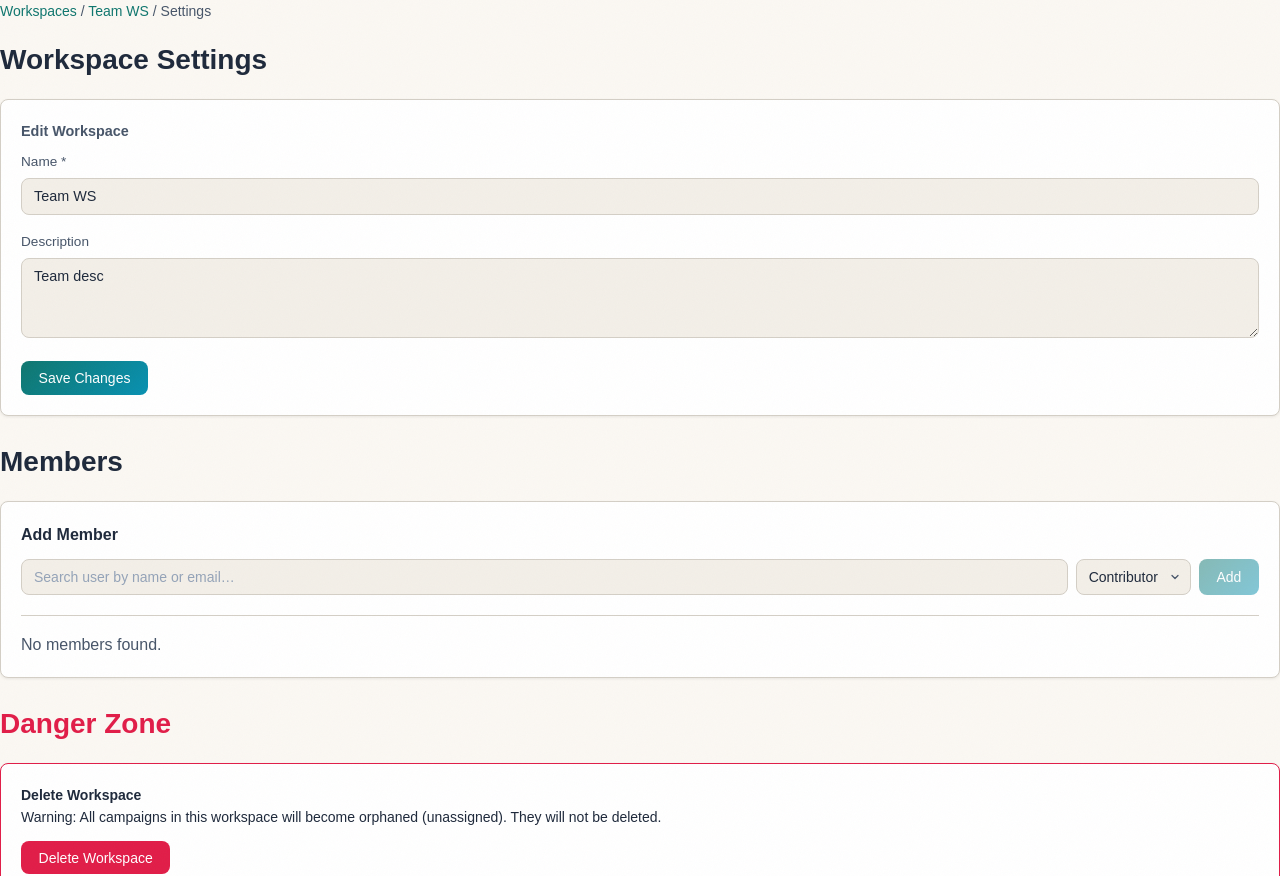
WorkspaceSettings – edit form › shows success message after save
Replace the text in the field showing "Team WS" with "Updated WS" at (640,196), box left=21, top=178, right=1259, bottom=215
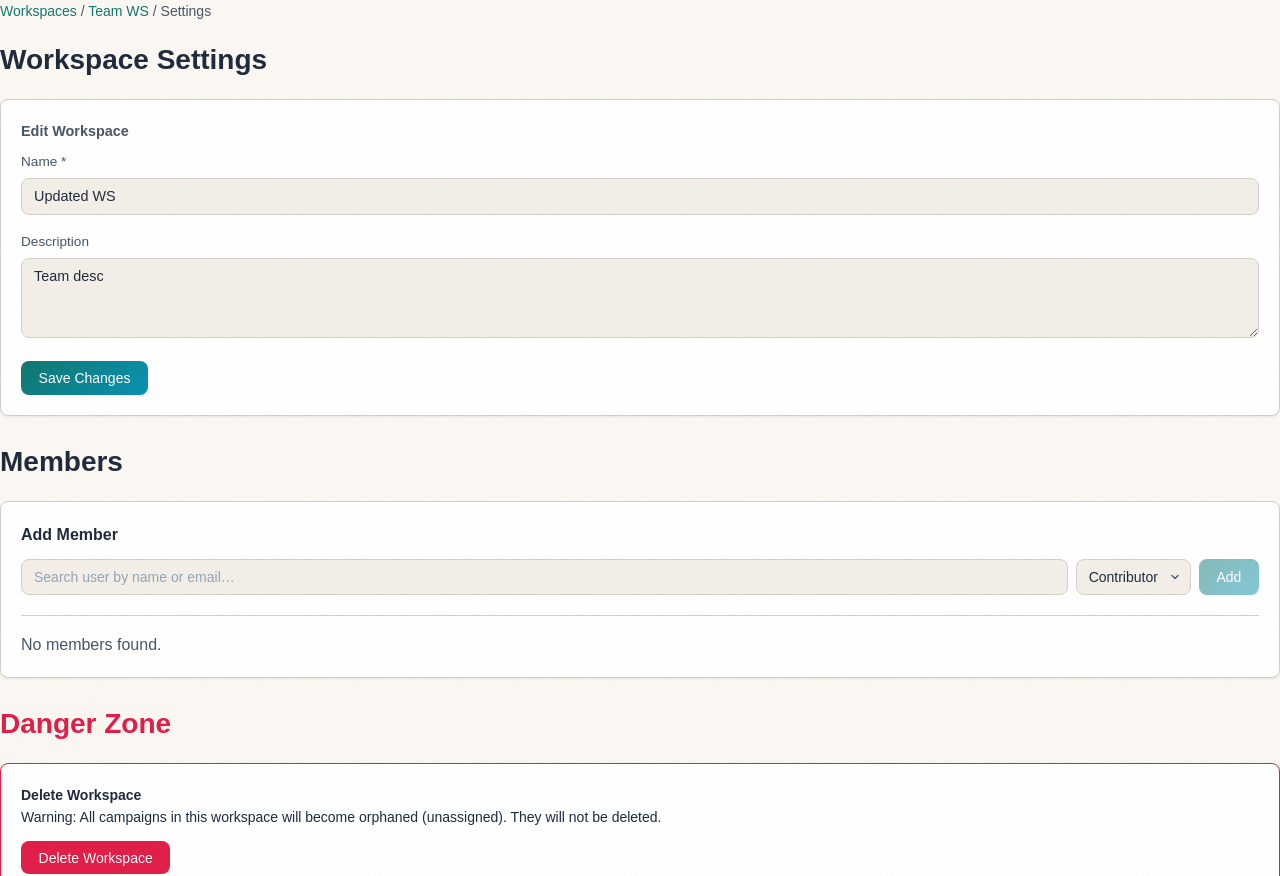
Click the button "Save Changes" at (84,378), box left=21, top=361, right=148, bottom=395
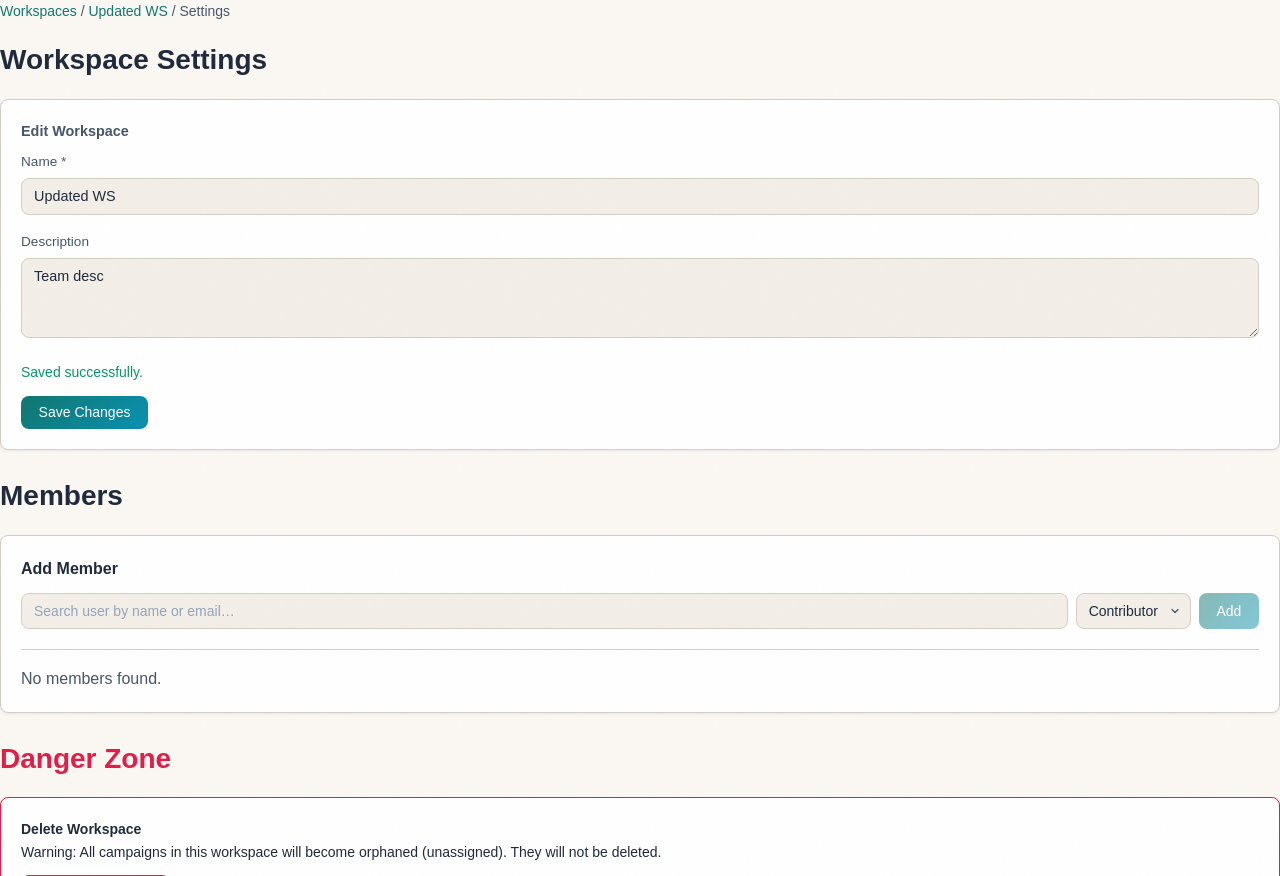
Result: the text "Saved successfully." is shown at left=21, top=364, right=143, bottom=380
